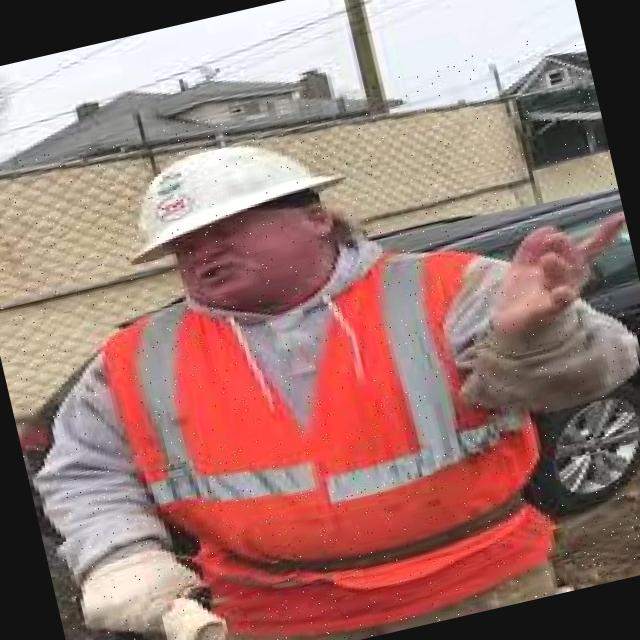gloves: (424, 177, 611, 408), (43, 481, 228, 640)
helmet: (108, 120, 352, 266)
vest: (95, 228, 562, 636)
